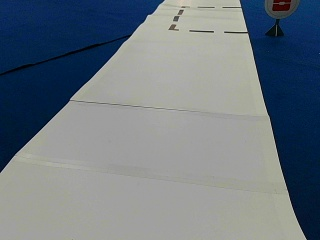company: (265, 0, 299, 18)
